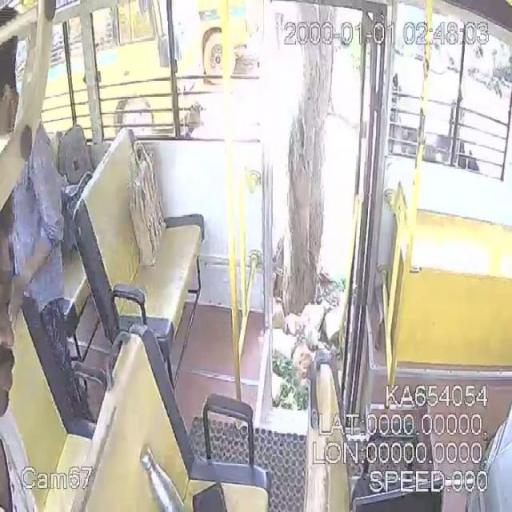persona: (0, 66, 97, 440), (0, 208, 45, 512)
